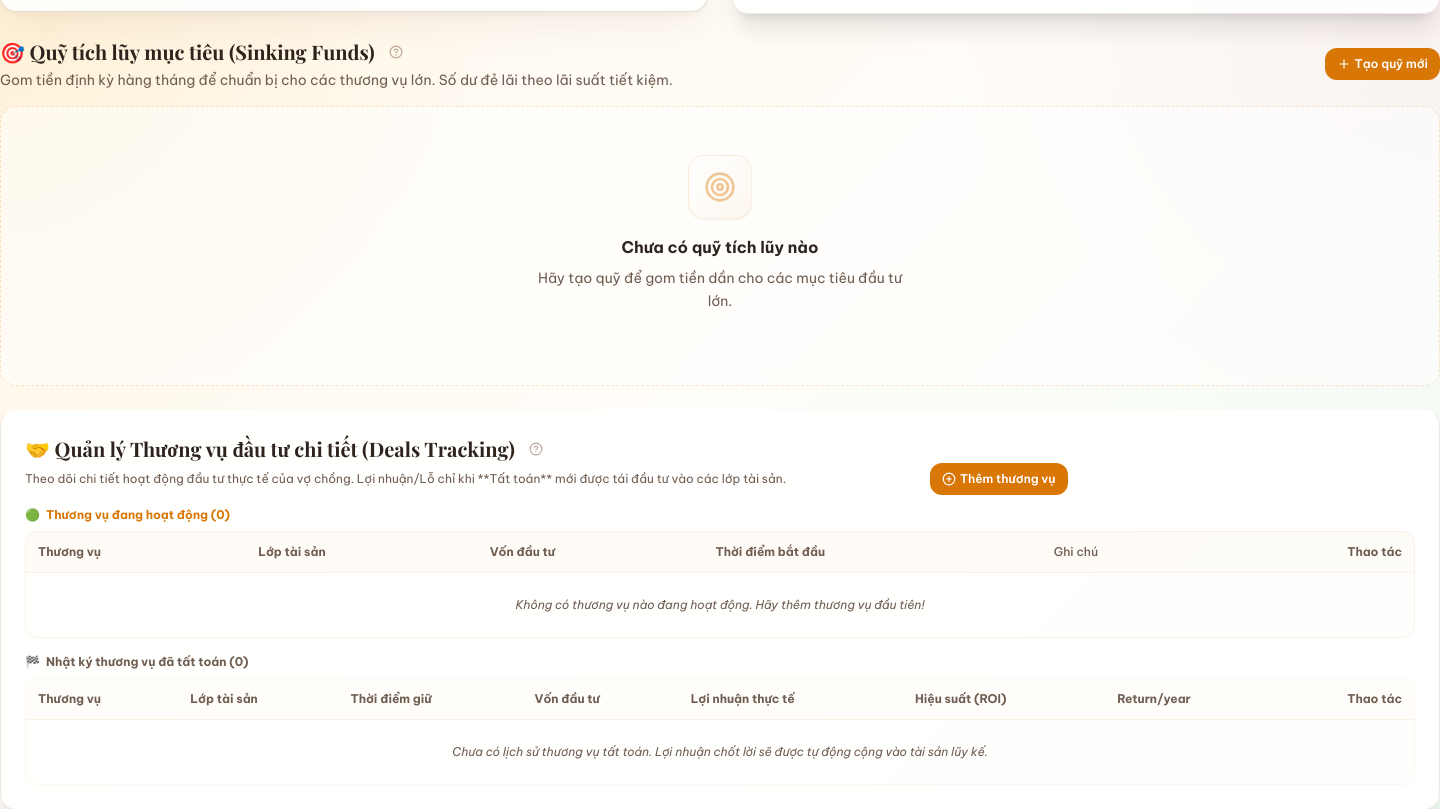
Test: Portfolio Component › hides quantity and purchase price for real estate
The width and height of the screenshot is (1440, 809).
(page scrolled)
Click the button "Thêm thương vụ" at (999, 478), box [930,462,1068,494]
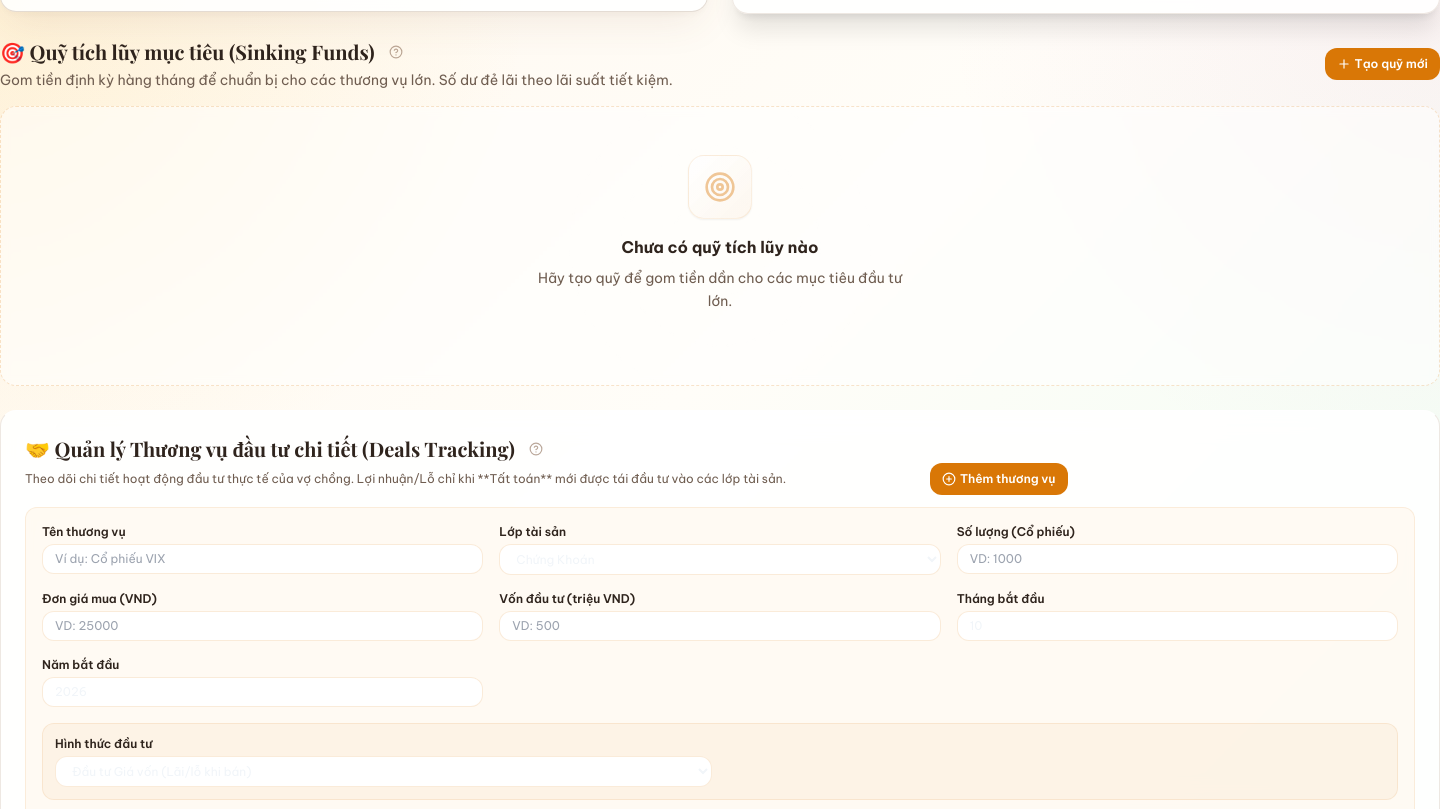
Expected: the dropdown below "Số lượng (Cổ phiếu)" is shown
Select "Bất Động Sản" in the dropdown below "Số lượng (Cổ phiếu)" at (720, 559), box [499,544,941,574]
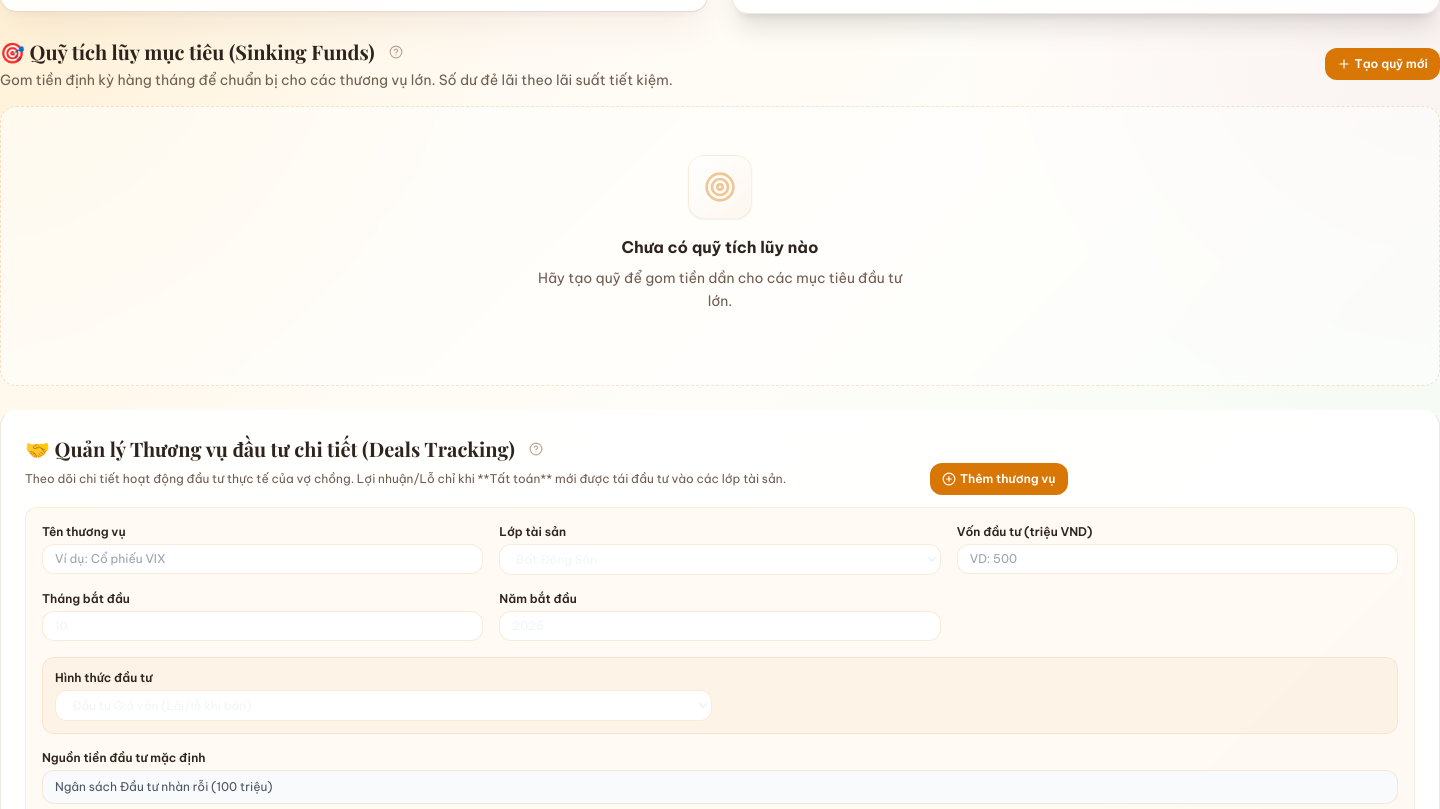
Expected: the text "Số lượng" is gone
Expected: the text "Đơn giá mua (VND)" is gone
